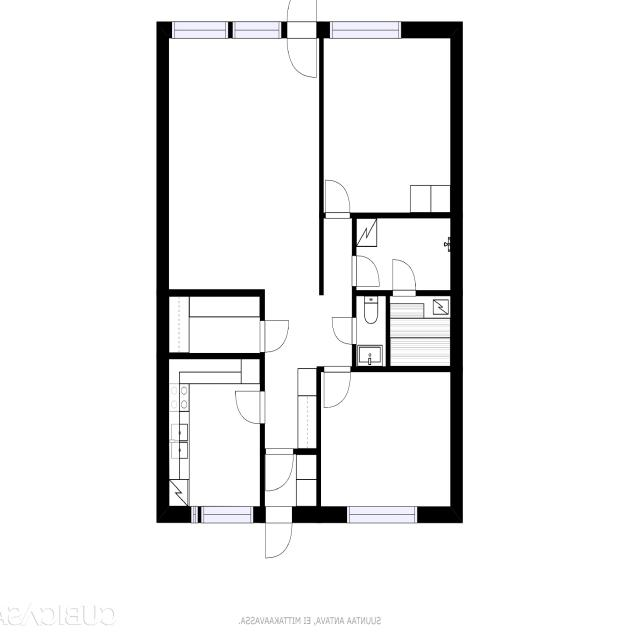door: (266, 506, 292, 558), (266, 412, 293, 454), (324, 366, 351, 407), (288, 0, 316, 38), (326, 180, 350, 218), (260, 321, 289, 352), (393, 259, 416, 296), (352, 256, 379, 286), (332, 317, 356, 344)
